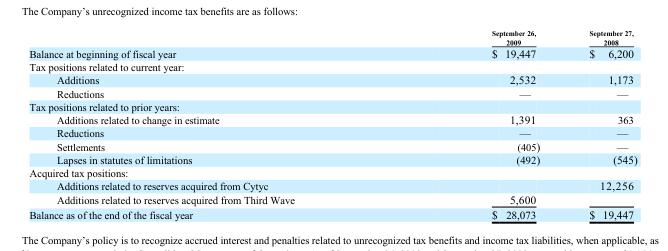table: (28, 28, 636, 220)
table column: (28, 28, 392, 220), (392, 28, 563, 220), (563, 28, 636, 220)
table column header: (28, 28, 636, 46)
table projected row header: (28, 59, 636, 72), (28, 99, 636, 112), (28, 166, 636, 178)
table row: (28, 28, 636, 46), (28, 72, 636, 86), (28, 125, 636, 139), (28, 152, 636, 166), (28, 178, 636, 192), (28, 192, 636, 206), (28, 206, 636, 220), (28, 46, 636, 59), (28, 59, 636, 72), (28, 86, 636, 99), (28, 99, 636, 112), (28, 112, 636, 125), (28, 139, 636, 152), (28, 166, 636, 178)
